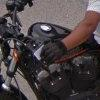Motorcycle: (2, 4, 93, 100)
